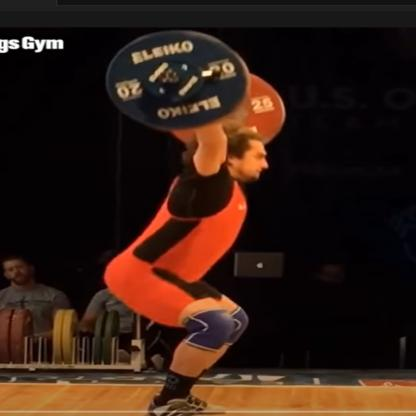Barbell: (101, 28, 255, 133)
